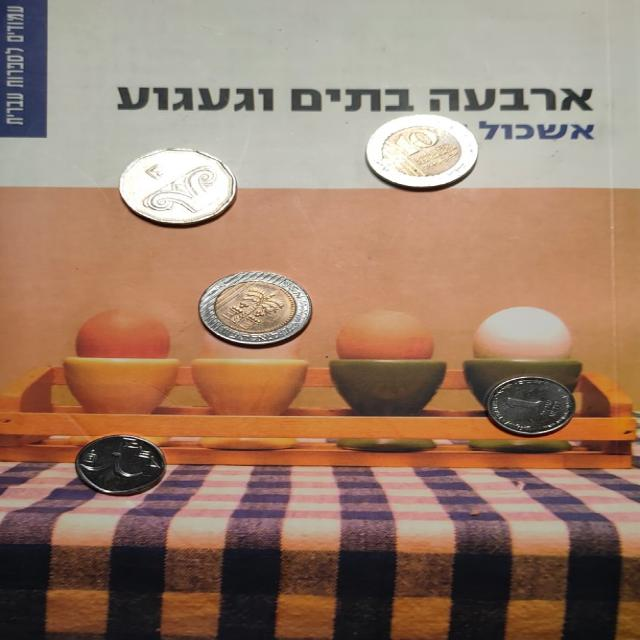1-shekel: (70, 432, 172, 506), (485, 374, 583, 440)
10-shekel: (357, 116, 487, 199), (197, 271, 320, 353)
5-shekel: (112, 147, 240, 233)
